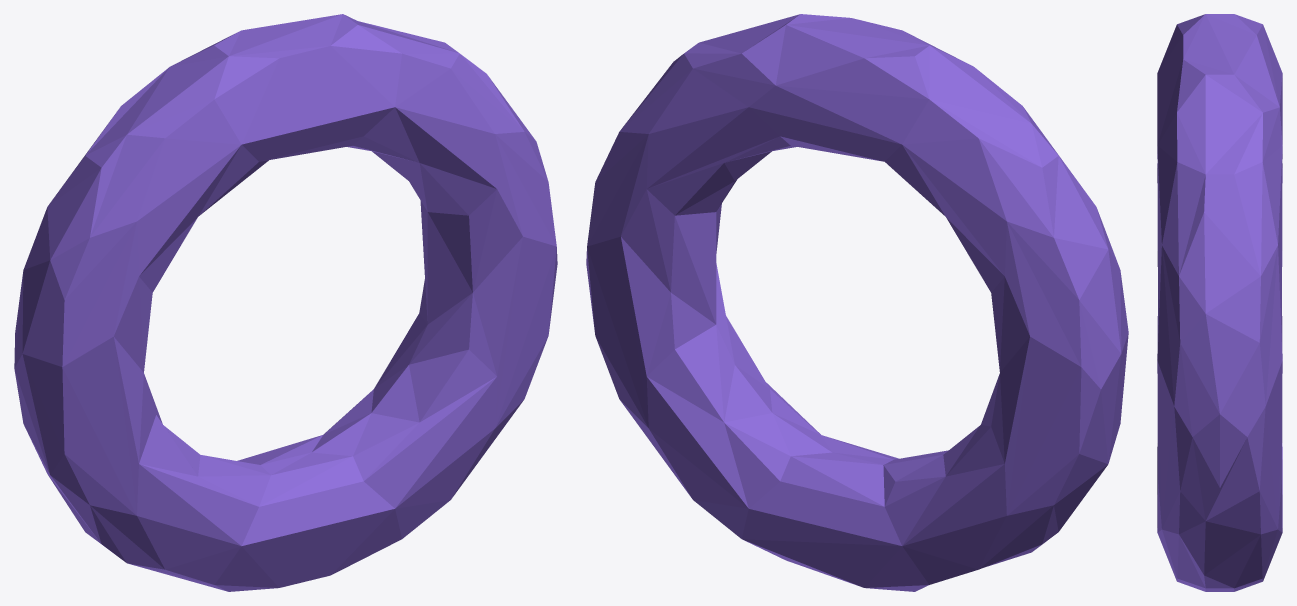
Rendered from spirit_shackle_link.glb.
3 views of the same model, side by side, from view 1: azimuth 30°, elevation 25°; view 2: azimuth 150°, elevation 25°; view 3: azimuth 270°, elevation 25° (orthographic). The views are drawn at different scales.
Visible parts, largest first — view 1: spirit_shackle_link; view 2: spirit_shackle_link; view 3: spirit_shackle_link.
Boxes of the visible parts, left/top/right/bottom form: spirit_shackle_link: left=14, top=14, right=557, bottom=591; spirit_shackle_link: left=586, top=14, right=1128, bottom=591; spirit_shackle_link: left=1157, top=14, right=1282, bottom=591.
Size of the model in its own units: 0.1648 by 0.1601 by 0.0351.
